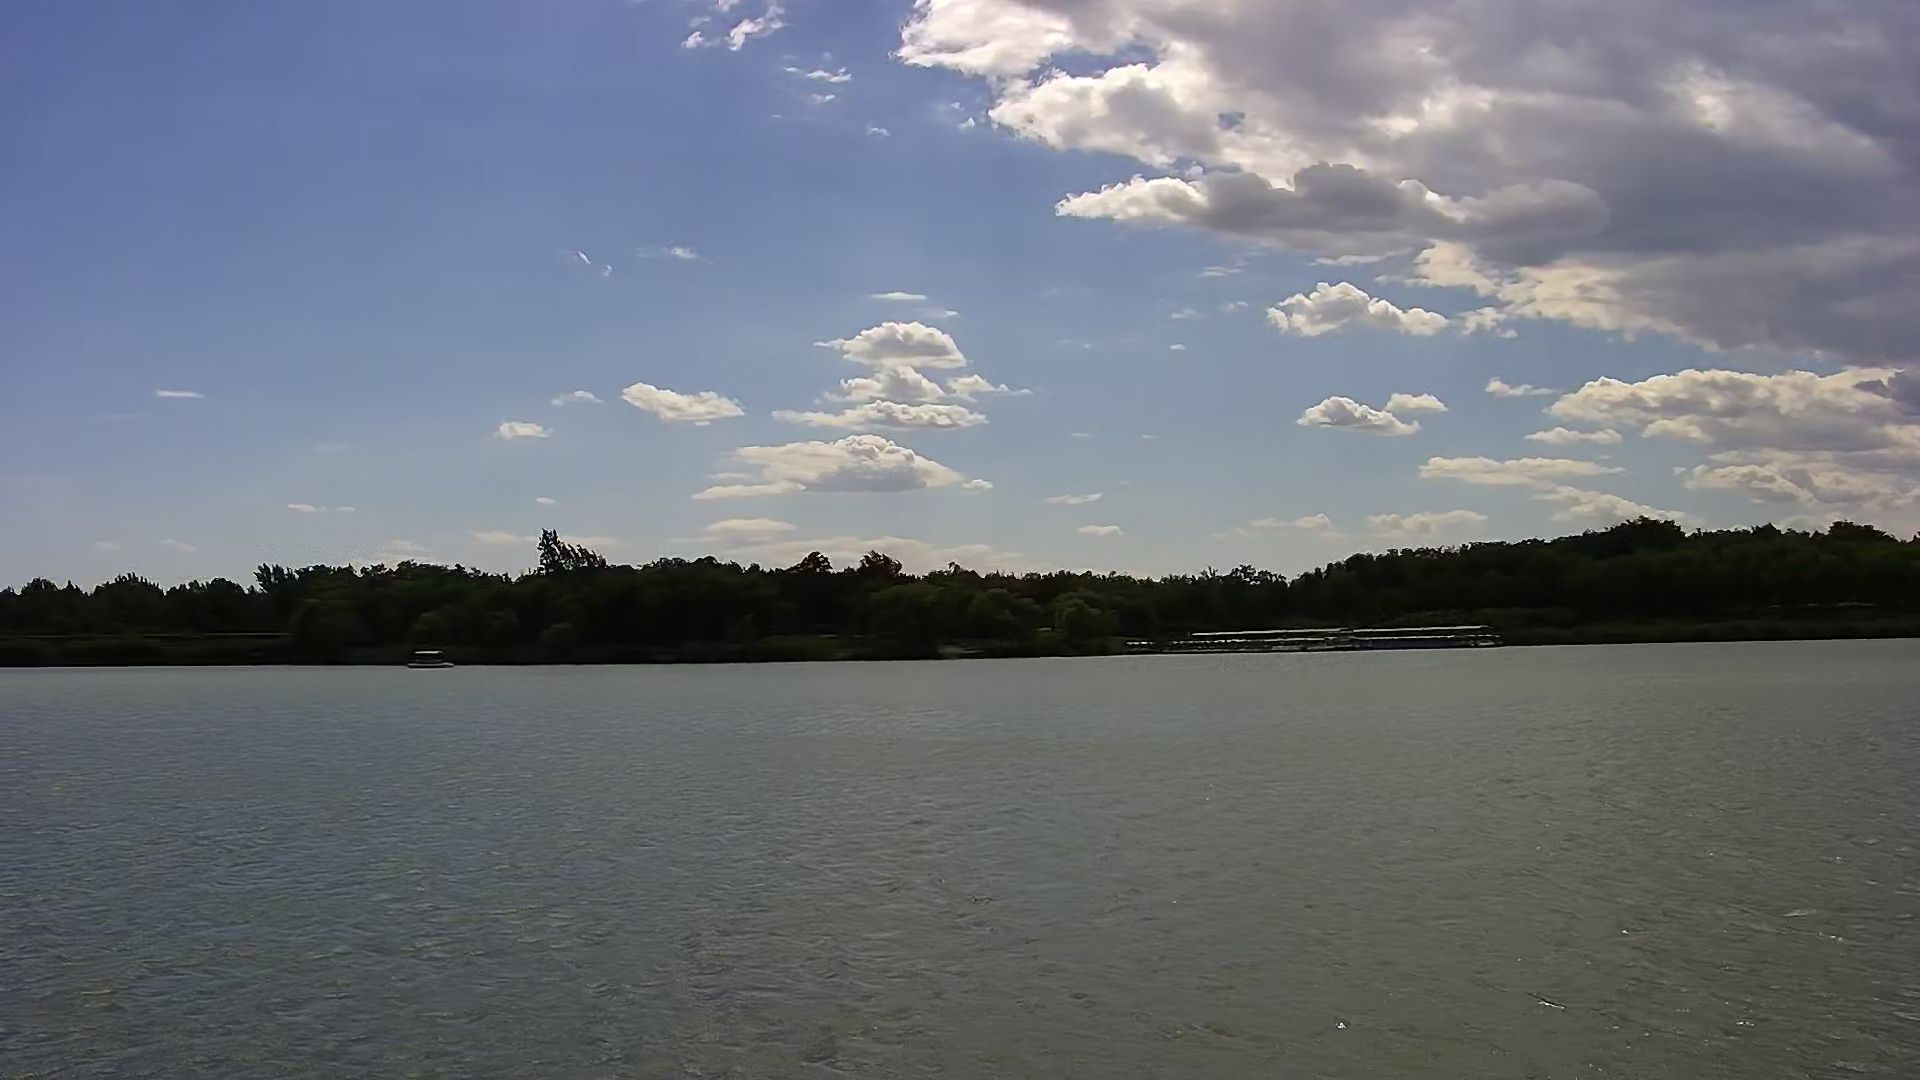boat: (407, 638, 455, 674)
harbor: (1156, 618, 1510, 658)
